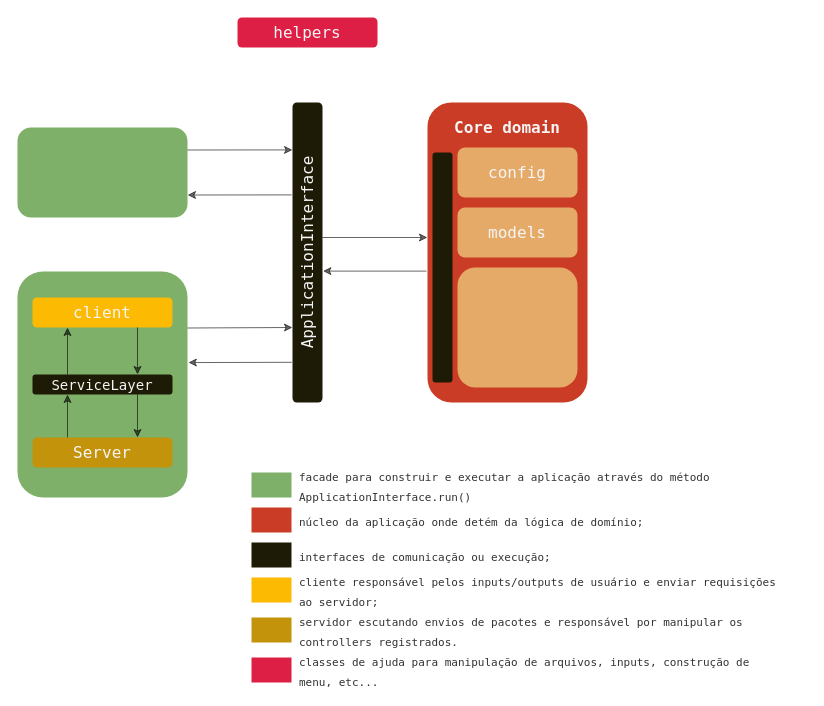
Image size: 824x706. Some labels were removed from this diagram. The centre of each missing label's shape, as x and y in pixels:
"App (Stand-alone)" belongs at point (102, 172).
"ControllerInterface" belongs at point (442, 267).
"controllers" belongs at point (517, 327).
